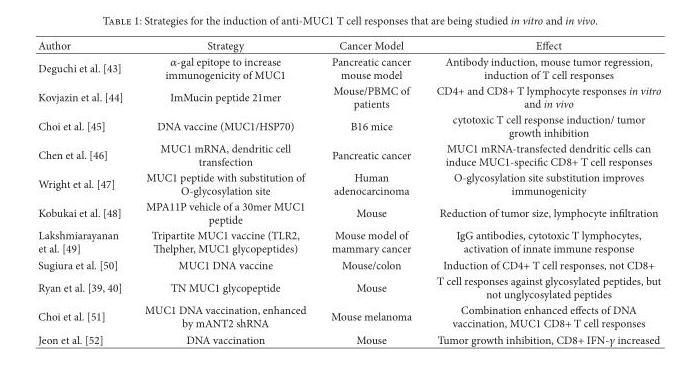table: (37, 37, 660, 347)
table column: (423, 37, 660, 347), (133, 37, 317, 347), (317, 37, 423, 347), (37, 37, 133, 347)
table column header: (37, 37, 660, 53)
table row: (37, 226, 660, 256), (37, 301, 660, 331), (37, 53, 660, 82), (37, 82, 660, 111), (37, 111, 660, 140), (37, 140, 660, 169), (37, 197, 660, 226), (37, 272, 660, 301), (37, 169, 660, 197), (37, 37, 660, 53), (37, 256, 660, 272), (37, 331, 660, 347)
